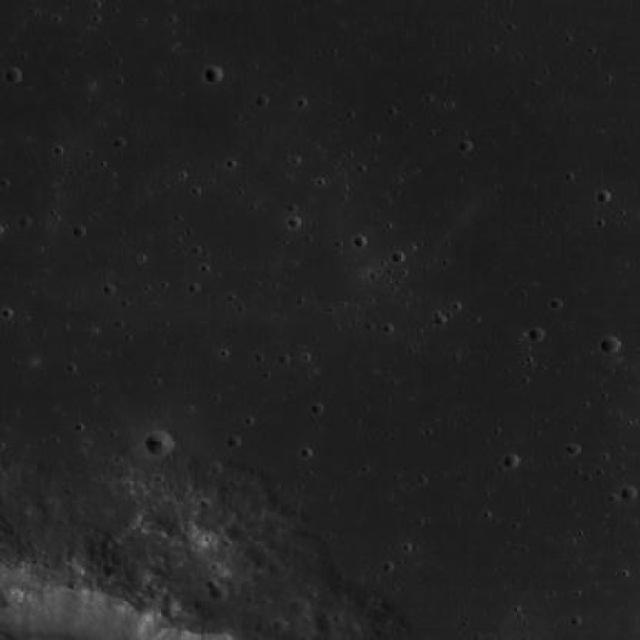crater: (146, 430, 174, 456), (290, 599, 310, 616), (205, 67, 224, 84), (210, 584, 228, 601), (602, 338, 620, 354)
